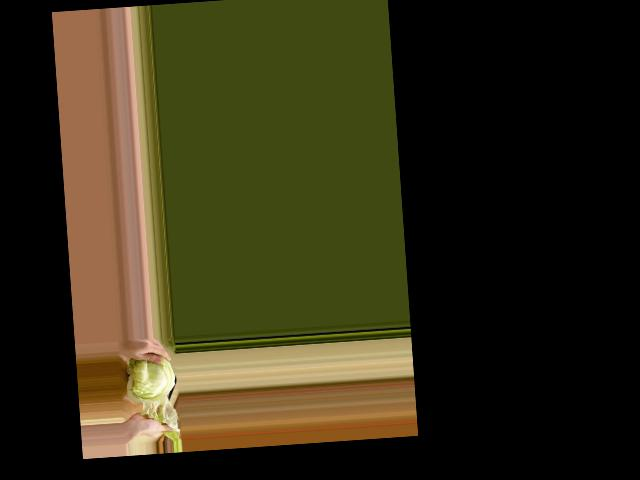lettuce: (121, 351, 178, 415)
